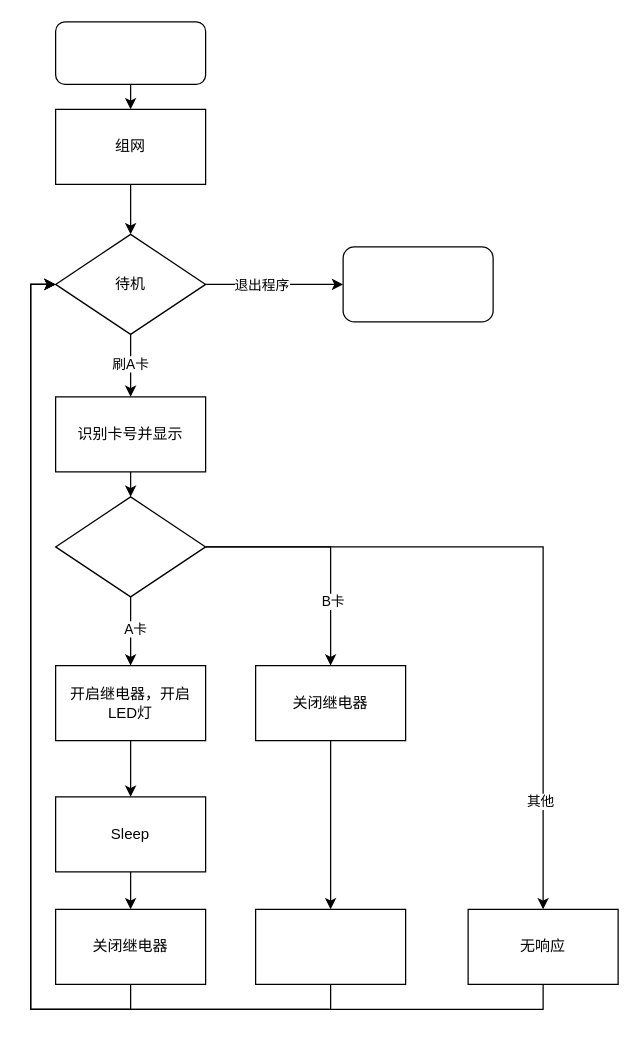
Image size: 640x1041. Some labels were removed from this diagram. The box of each missing label's shape, as (x1, y1, x2, y2) in pixels:
关机退出: (342, 246, 493, 322)
关闭LED灯: (254, 908, 406, 984)
判断卡片类型: (54, 496, 206, 597)
开启设备: (54, 21, 206, 84)
